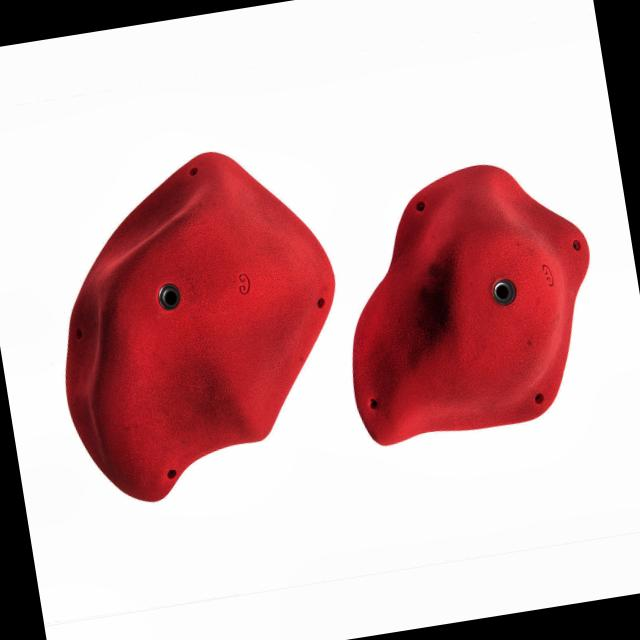Hold: (29, 128, 367, 512), (326, 150, 616, 452)
